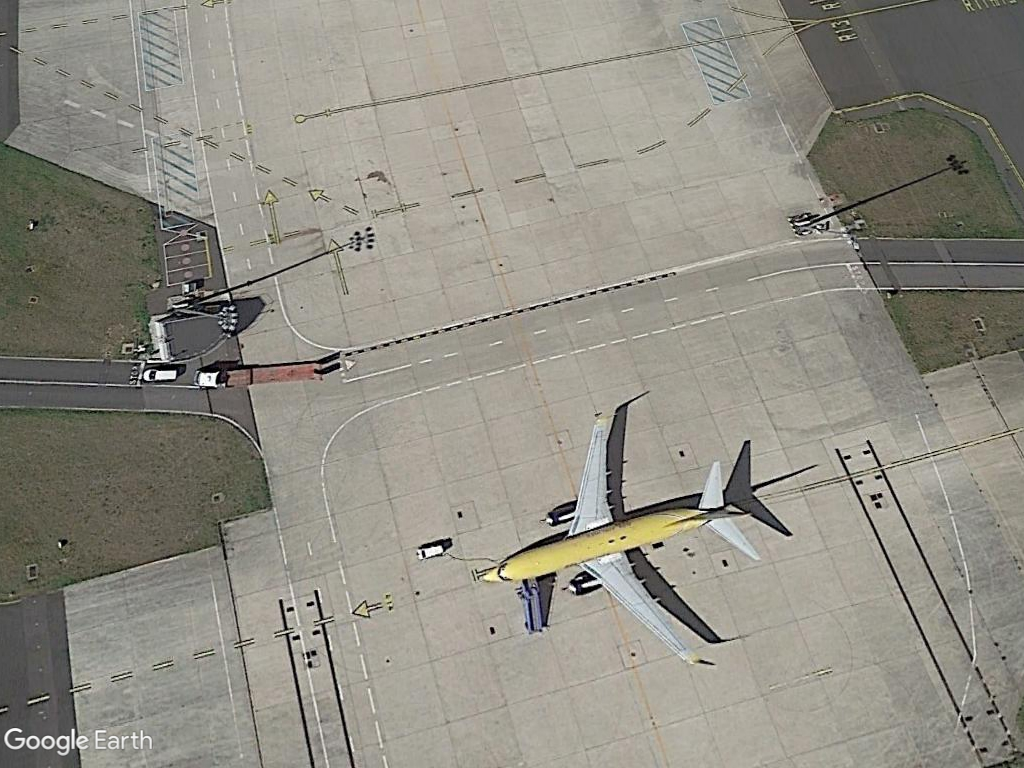airliner: (480, 420, 765, 669)
car: (139, 365, 183, 383), (411, 543, 448, 561)
